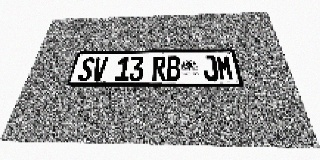1: (114, 57, 131, 81)
3: (128, 56, 144, 81)
B: (167, 56, 181, 81)
J: (202, 55, 219, 81)
M: (216, 55, 234, 81)
R: (152, 56, 166, 81)
S: (77, 57, 96, 81)
V: (91, 57, 108, 81)
